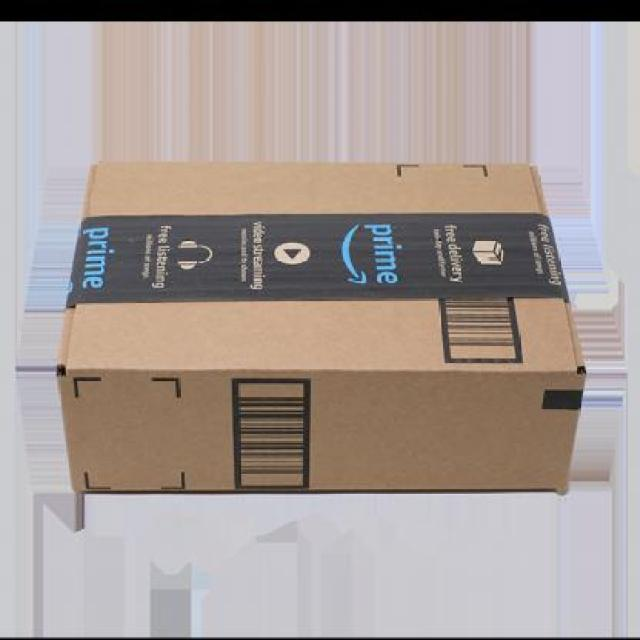cardboxes: (47, 153, 596, 505)
